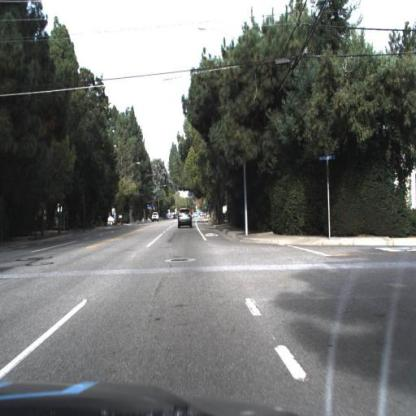car: (178, 207, 196, 233), (151, 211, 161, 224)
